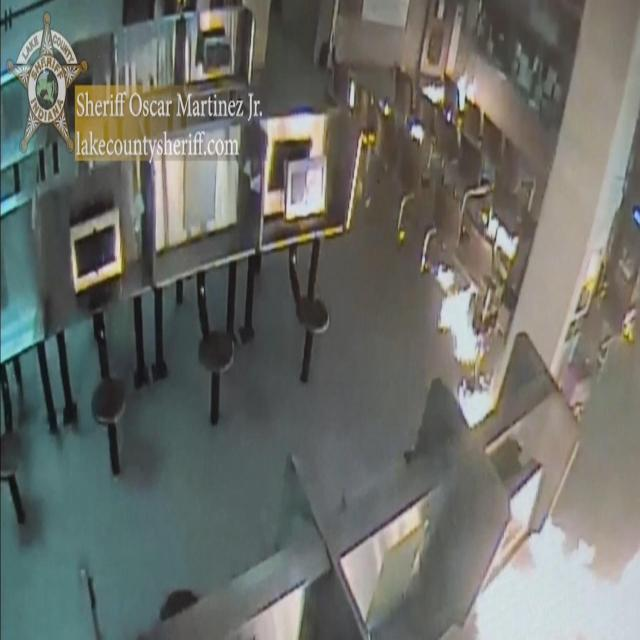fire: (475, 519, 640, 640), (438, 264, 483, 362), (458, 378, 494, 427), (456, 66, 478, 112)
